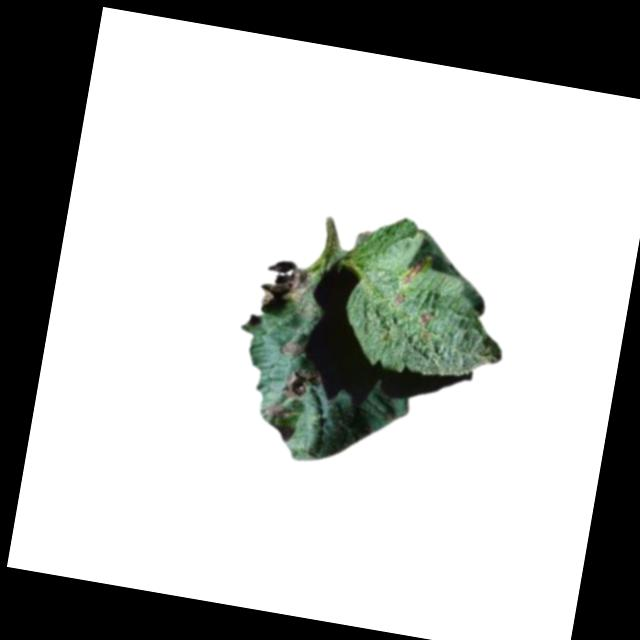Early_blight: (256, 256, 317, 321), (282, 366, 323, 402), (402, 256, 428, 288), (278, 340, 305, 360), (263, 402, 290, 422), (394, 289, 408, 307), (421, 314, 432, 326)
